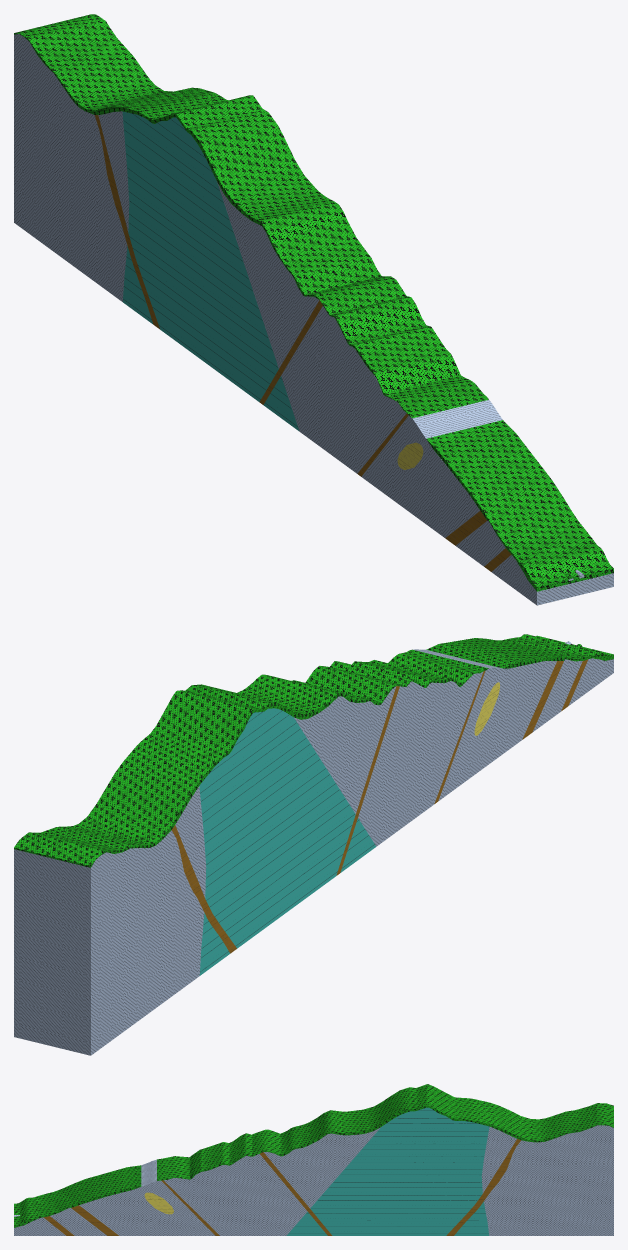
3 views of the same model, one above another, from view 1: azimuth 30°, elevation 25°; view 2: azimuth 150°, elevation 25°; view 3: azimuth 270°, elevation 25° (orthographic). The views are drawn at different scales.
Parts seen in each view (by area): view 1: 3, 2, 1, 0, fractures; view 2: 0, 3, 1, 2, fractures; view 3: 1, 2, 3, 0, fractures, hole.
Part boxes in pixels (x1=…): 3: x1=14, y1=14, x2=613, y2=591; 2: x1=217, y1=182, x2=613, y2=605; 1: x1=122, y1=111, x2=299, y2=431; 0: x1=14, y1=34, x2=129, y2=301; fractures: x1=94, y1=115, x2=511, y2=571; 0: x1=14, y1=786, x2=206, y2=1055; 3: x1=14, y1=634, x2=613, y2=867; 1: x1=199, y1=708, x2=376, y2=975; 2: x1=294, y1=649, x2=613, y2=846; fractures: x1=171, y1=659, x2=588, y2=953; 1: x1=286, y1=1107, x2=489, y2=1235; 2: x1=14, y1=1127, x2=380, y2=1235; 3: x1=14, y1=1084, x2=613, y2=1227; 0: x1=481, y1=1125, x2=613, y2=1235; fractures: x1=43, y1=1139, x2=520, y2=1235; hole: x1=144, y1=1192, x2=173, y2=1214.
Size of the model in its own units: 180 by 508 by 2121.
5 materials, 5 textured.
